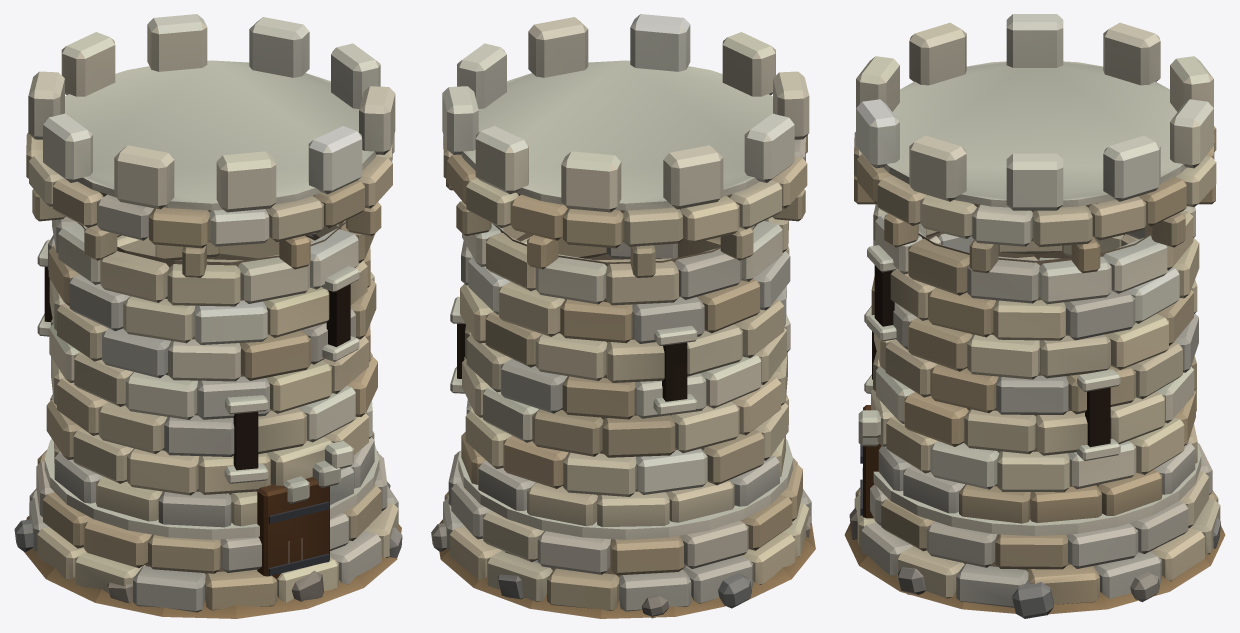
The model's file is archer_tower_1.glb.
3 renders of one model, left to right at view 1: azimuth 30°, elevation 25°; view 2: azimuth 150°, elevation 25°; view 3: azimuth 270°, elevation 25°, orthographic.
Visible parts, largest first — view 1: archer_tower_1; view 2: archer_tower_1; view 3: archer_tower_1.
Part boxes in pixels (x1,y1,x2,y2): archer_tower_1: [14, 14, 402, 618]; archer_tower_1: [431, 14, 815, 618]; archer_tower_1: [844, 14, 1225, 618].
Bounding box in the file's own units: 0.6099 × 0.7867 × 0.6.
